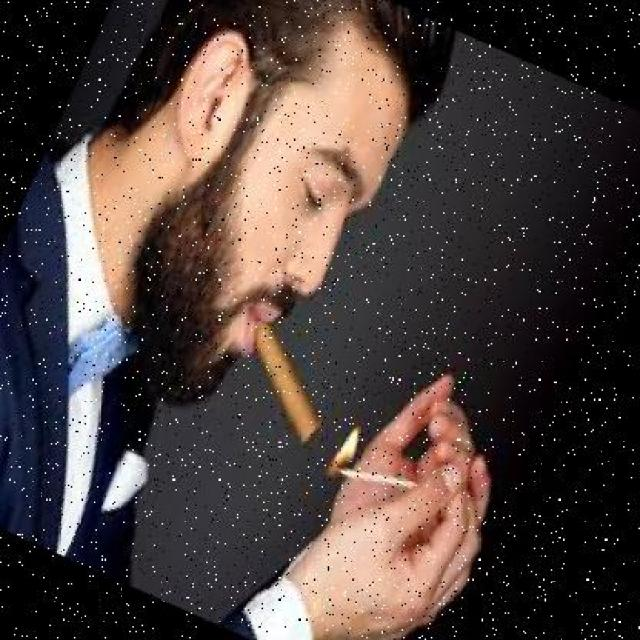fire: (314, 412, 372, 486)
